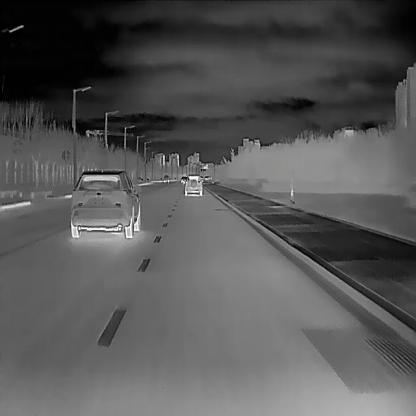car: (70, 169, 140, 237), (183, 173, 202, 196), (163, 174, 169, 182), (180, 176, 186, 184), (203, 174, 210, 179)
